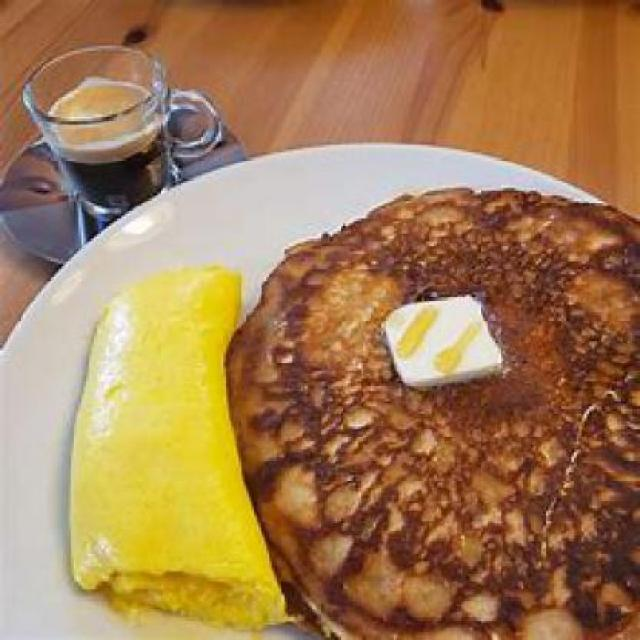omelette: (66, 251, 269, 612)
pancakes: (240, 175, 638, 638)
